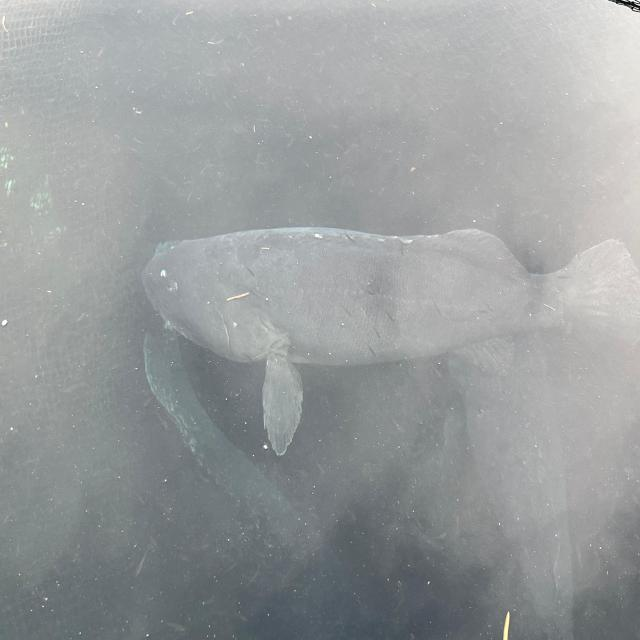ikan: (141, 223, 639, 457)
